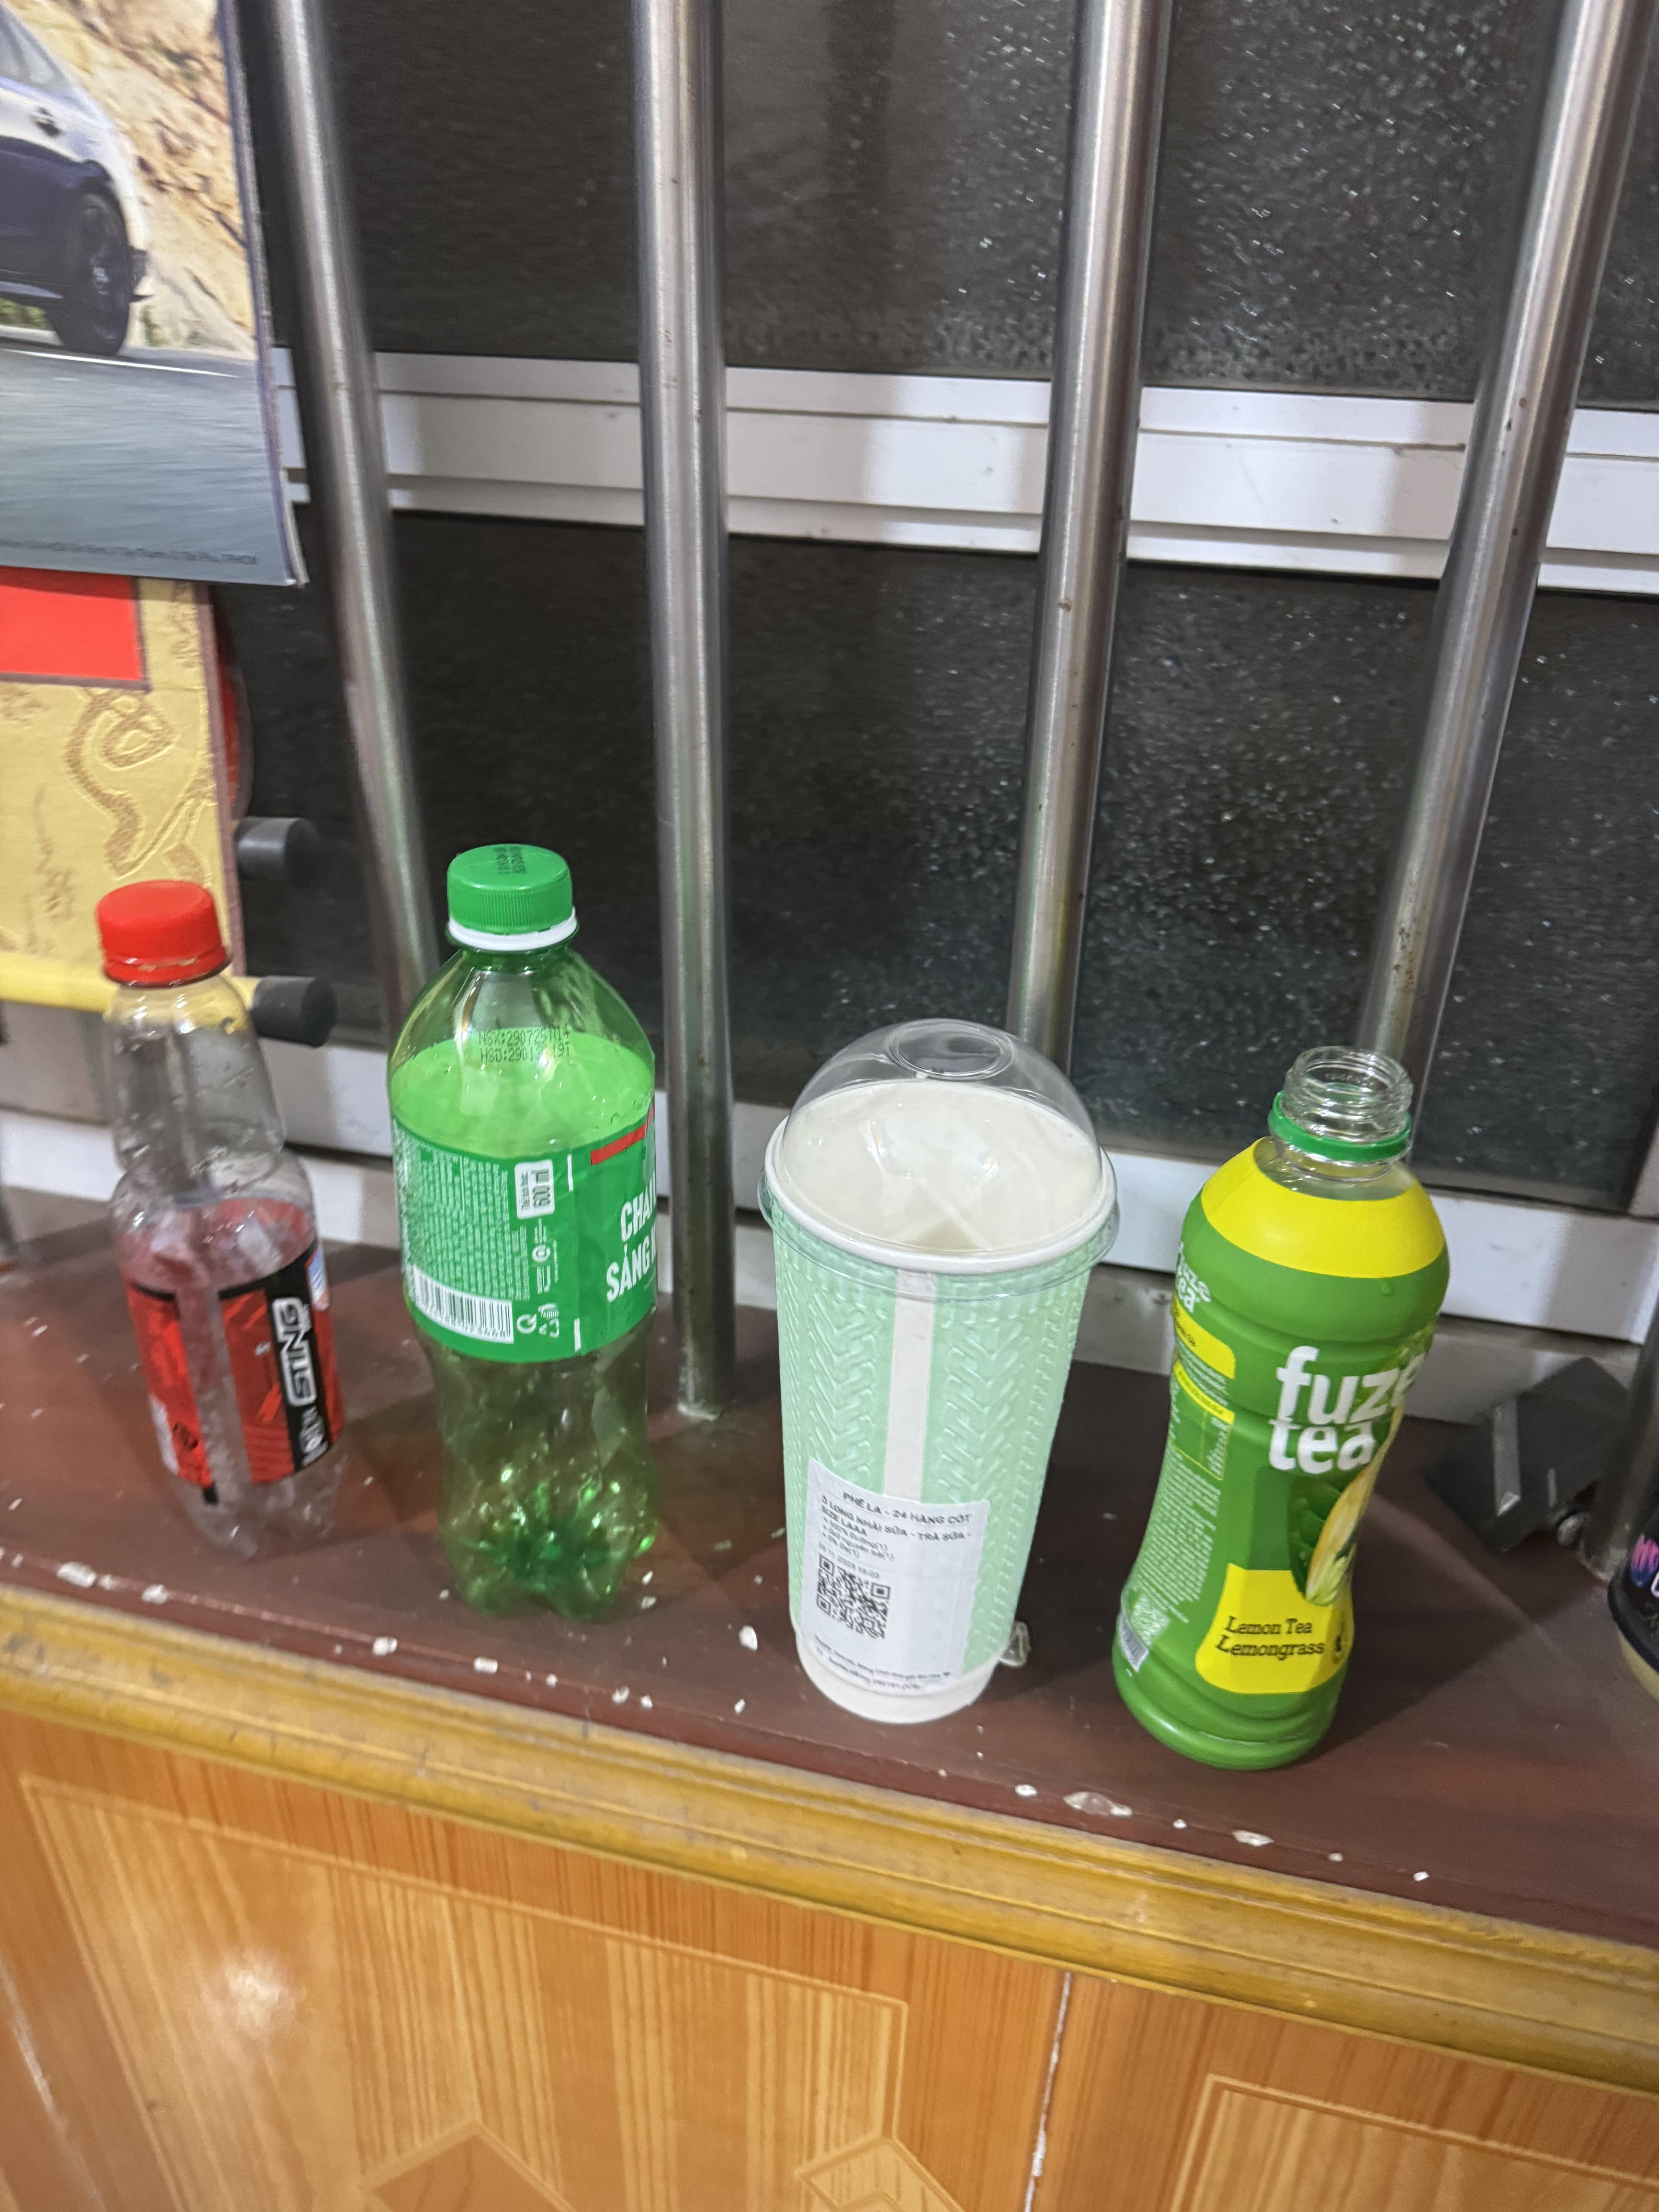2: (741, 1000, 1133, 1761)
bottle: (1084, 1026, 1502, 1791), (376, 819, 713, 1658), (71, 833, 361, 1606)
